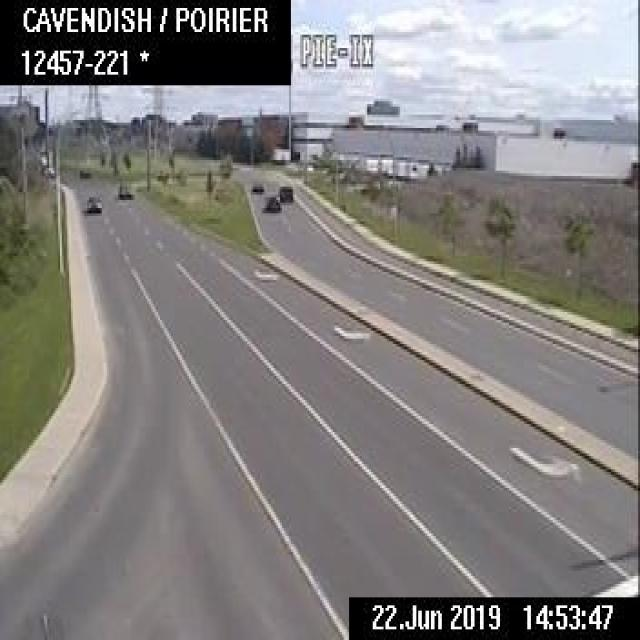vehicle: (259, 193, 279, 210), (84, 193, 101, 211), (277, 184, 293, 201), (117, 177, 130, 197), (250, 181, 262, 191)
